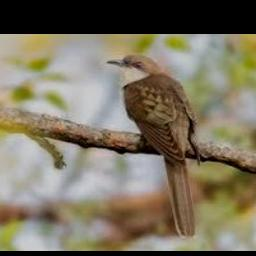Cuckoo: (106, 53, 199, 238)
